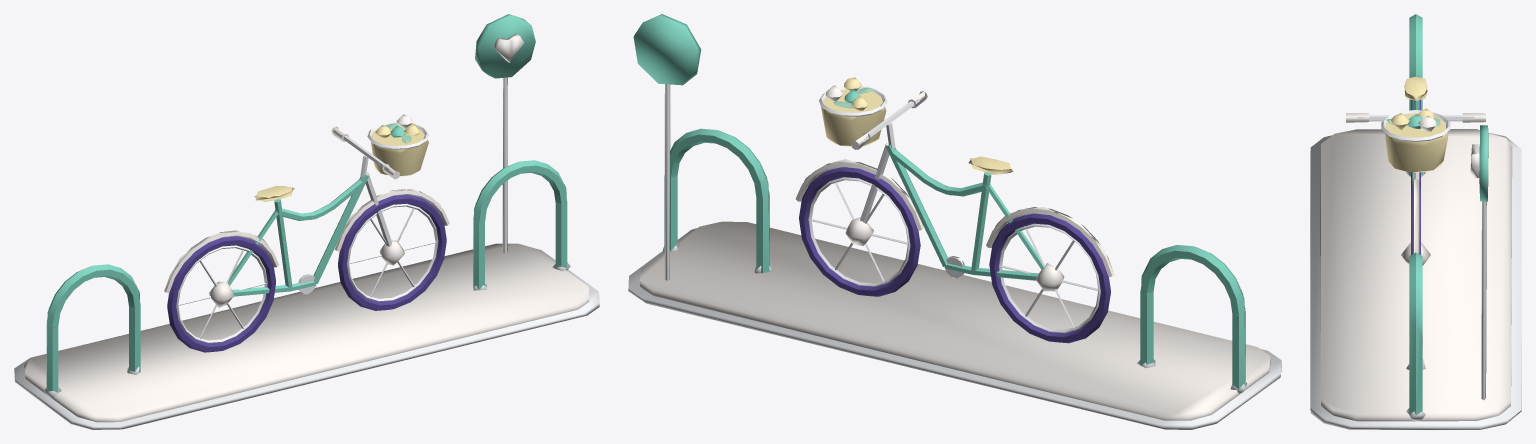
The model's file is lite_bike_rack.glb.
3 renders of one model, left to right at view 1: azimuth 30°, elevation 25°; view 2: azimuth 150°, elevation 25°; view 3: azimuth 270°, elevation 25°, orthographic. The views are drawn at different scales.
Visible parts, largest first — view 1: bike_rack; view 2: bike_rack; view 3: bike_rack.
Boxes of the visible parts, x1,y1,x2,y2 form: bike_rack: (14, 14, 599, 429); bike_rack: (628, 14, 1281, 429); bike_rack: (1310, 14, 1521, 429).
Size of the model in its own units: 3.59 by 1.6 by 1.09.
